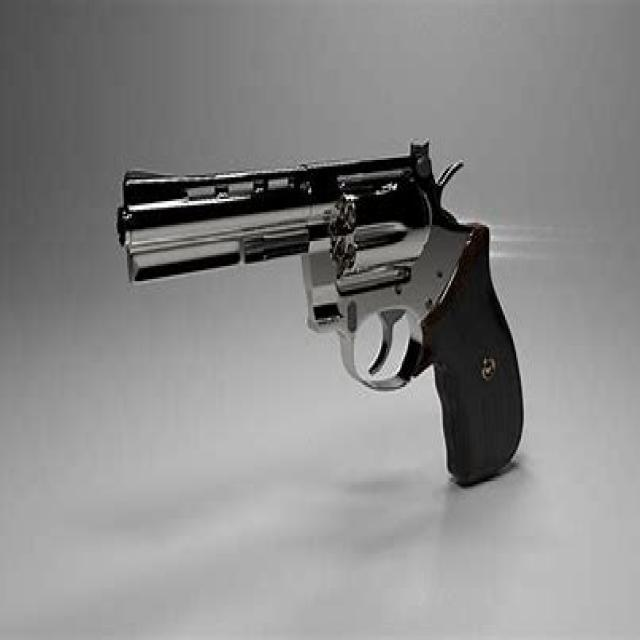Pistol: (102, 115, 564, 519)
